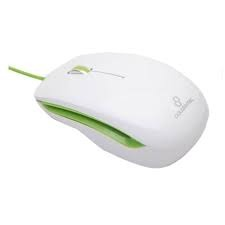mouse: (33, 45, 212, 181)
